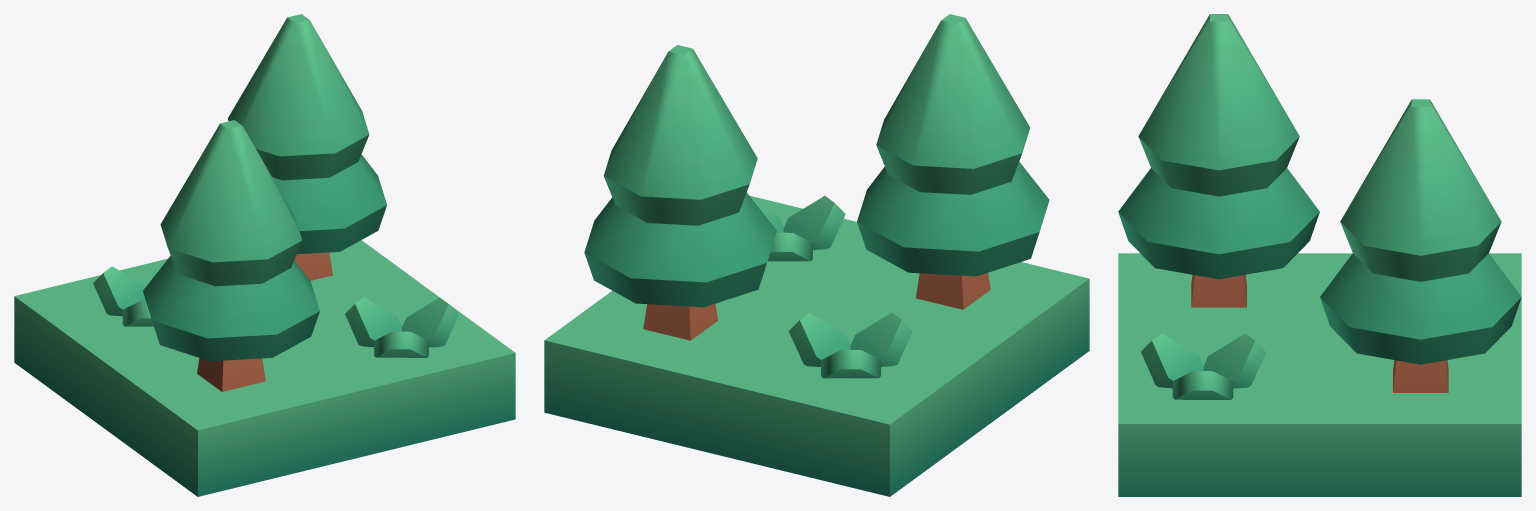
File: kenney-tower-defense-tile-tree-double.glb
The picture shows the model from 3 angles, left to right: view 1: azimuth 30°, elevation 25°; view 2: azimuth 150°, elevation 25°; view 3: azimuth 270°, elevation 25°; orthographic projection. The views are drawn at different scales.
Visible parts, largest first — view 1: tile-tree-double; view 2: tile-tree-double; view 3: tile-tree-double.
Boxes of the visible parts, box(x1,y1,x2,y2) form: tile-tree-double: box(14, 14, 515, 496); tile-tree-double: box(544, 14, 1089, 496); tile-tree-double: box(1118, 14, 1521, 496).
Bounding box in the file's own units: 1 × 0.96 × 1.
Materials: 1 (1 with a texture image).
